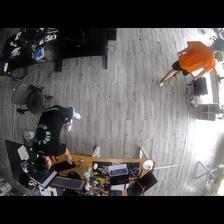normal: (156, 34, 223, 87), (32, 102, 80, 169)
